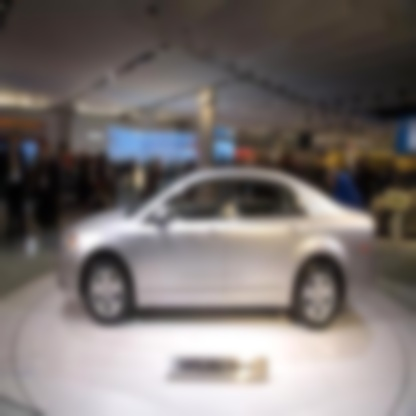Vehicle: (57, 169, 374, 330)
